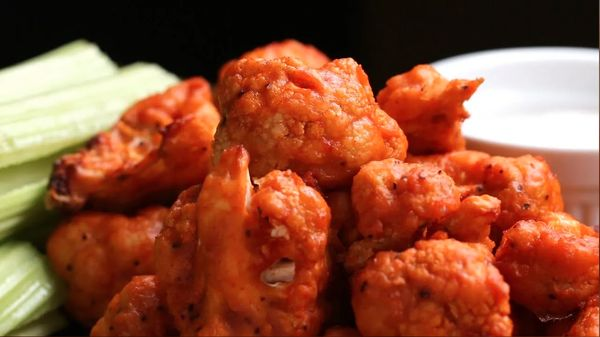salad: (344, 150, 600, 331), (216, 41, 404, 191), (47, 77, 221, 214), (349, 237, 515, 334)
